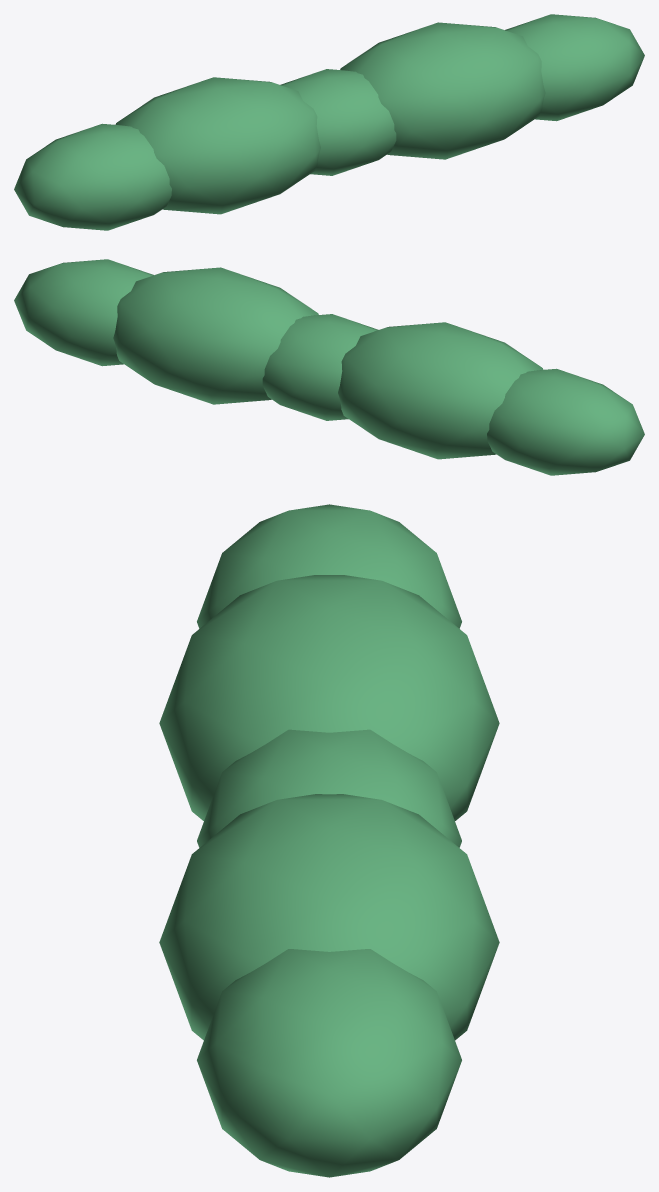
The model's file is bush_tile.glb.
The picture shows the model from 3 angles, top to bottom: view 1: azimuth 30°, elevation 25°; view 2: azimuth 150°, elevation 25°; view 3: azimuth 270°, elevation 25°; orthographic projection. The views are drawn at different scales.
Visible parts, largest first — view 1: bush_tile; view 2: bush_tile; view 3: bush_tile.
Part boxes in pixels (box(x1,y1,x2,y2)): bush_tile: box(14, 14, 644, 230); bush_tile: box(14, 259, 644, 475); bush_tile: box(159, 504, 499, 1177).
Size of the model in its own units: 8.7 by 1.56 by 2.1.
